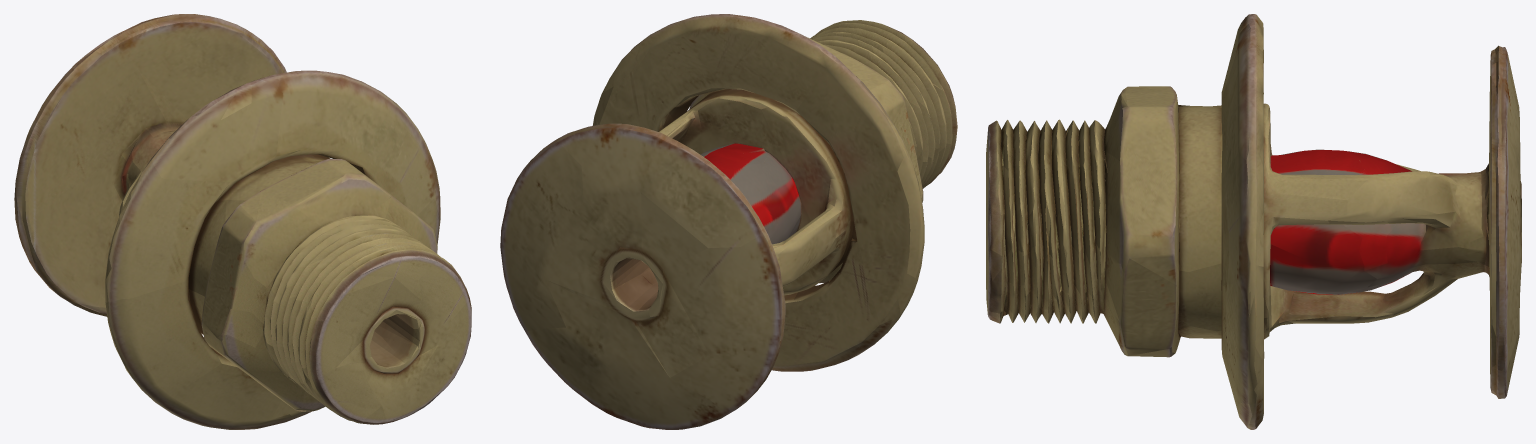
Rendered from sprinkler.glb.
The picture shows the model from 3 angles, left to right: view 1: azimuth 30°, elevation 25°; view 2: azimuth 150°, elevation 25°; view 3: azimuth 270°, elevation 25°; orthographic projection. The views are drawn at different scales.
Parts seen in each view (by area): view 1: Mesh_0; view 2: Mesh_0; view 3: Mesh_0.
Part boxes in pixels (x1,y1,x2,y2): Mesh_0: [14, 14, 471, 429]; Mesh_0: [500, 14, 957, 429]; Mesh_0: [986, 14, 1521, 429].
Bounding box in the file's own units: 1.48 × 1.48 × 1.9.
1 material, 1 textured.
